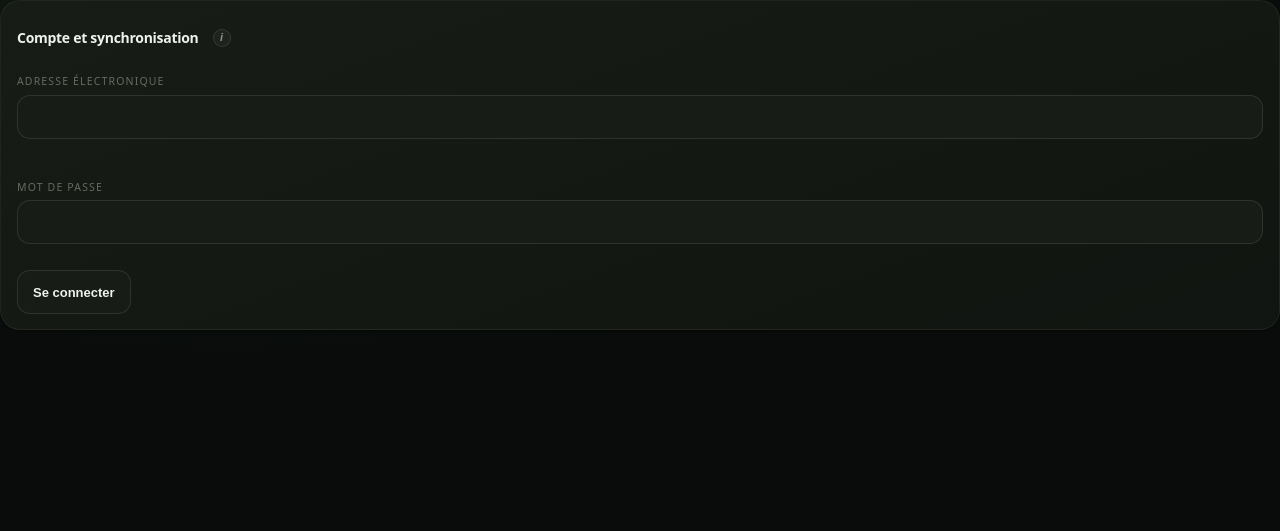
connexion › affiche l’adresse connectée après authentification
The image size is (1280, 531).
Type "demo@exemple.test" into the field labelled "Adresse électronique" at (640, 117), box [17,95,1263,139]
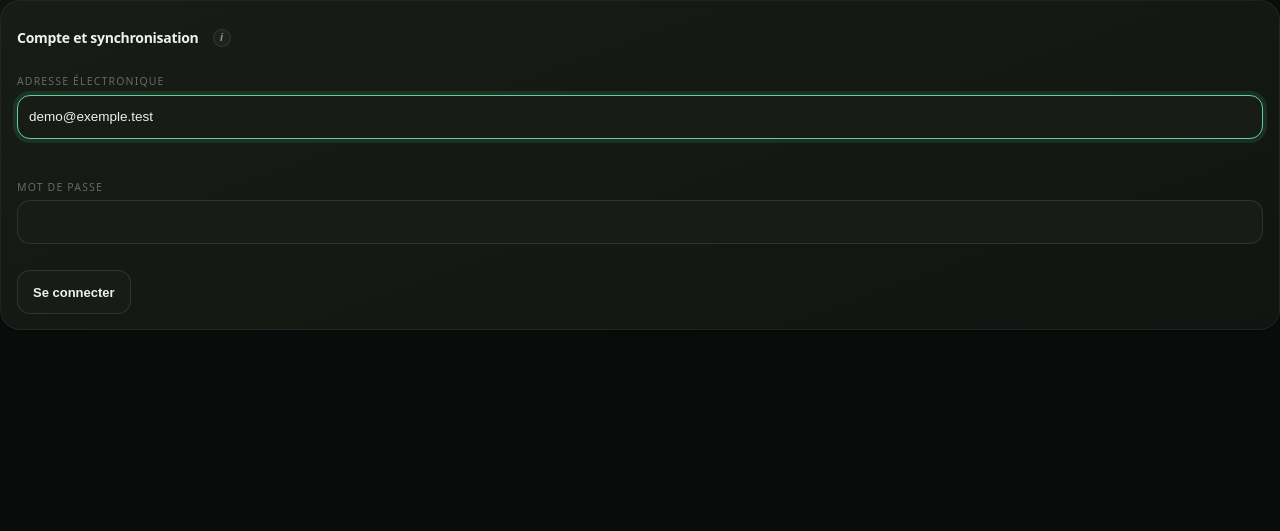
Type "motdepasse" into the password field labelled "Mot de passe" at (640, 222), box [17,200,1263,244]
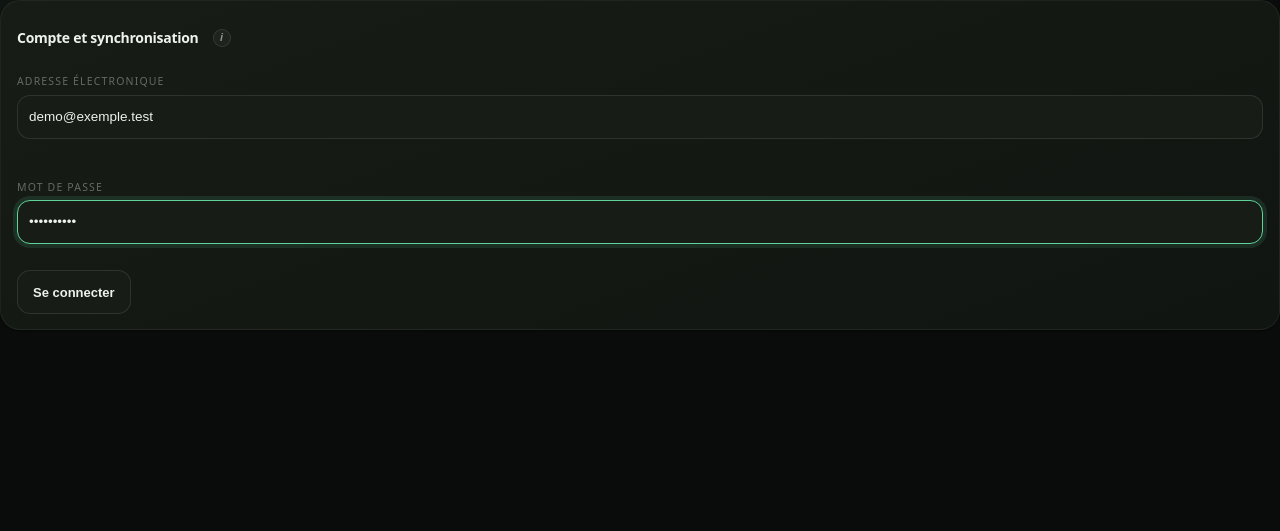
Click the button "Se connecter" at (74, 292), box [17,270,131,314]
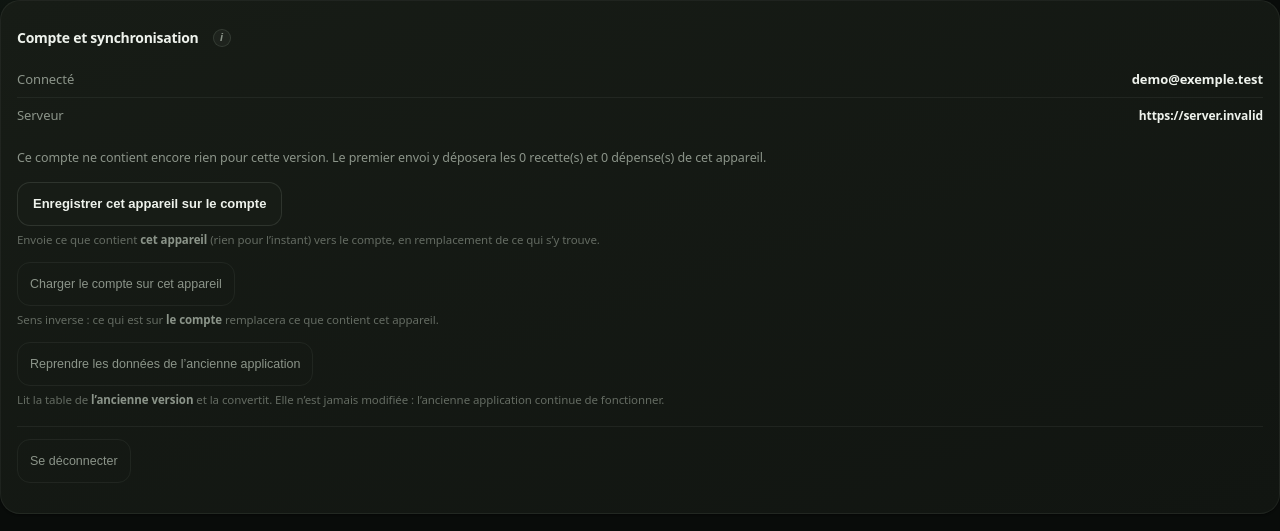
Expected: the text "demo@exemple.test" is shown, [1132,70,1263,89]
